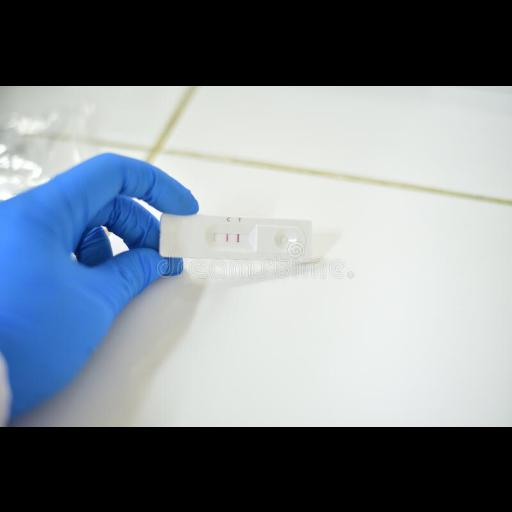Pos: (160, 212, 312, 258)
